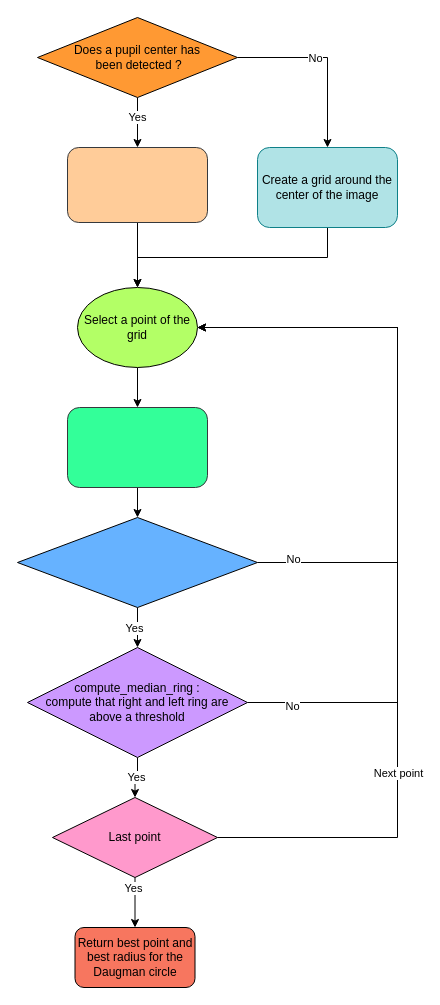
Image size: 440x1005. Some labels were removed from this diagram. The centre of each missing label's shape, as x and y in pixels:
"check_symmetry: check left and right are symmetric" belongs at (137,562).
"Create a grid around the center of the pupil" belongs at (137,184).
"daugman: compute best circle and value of the difference" belongs at (137,447).
